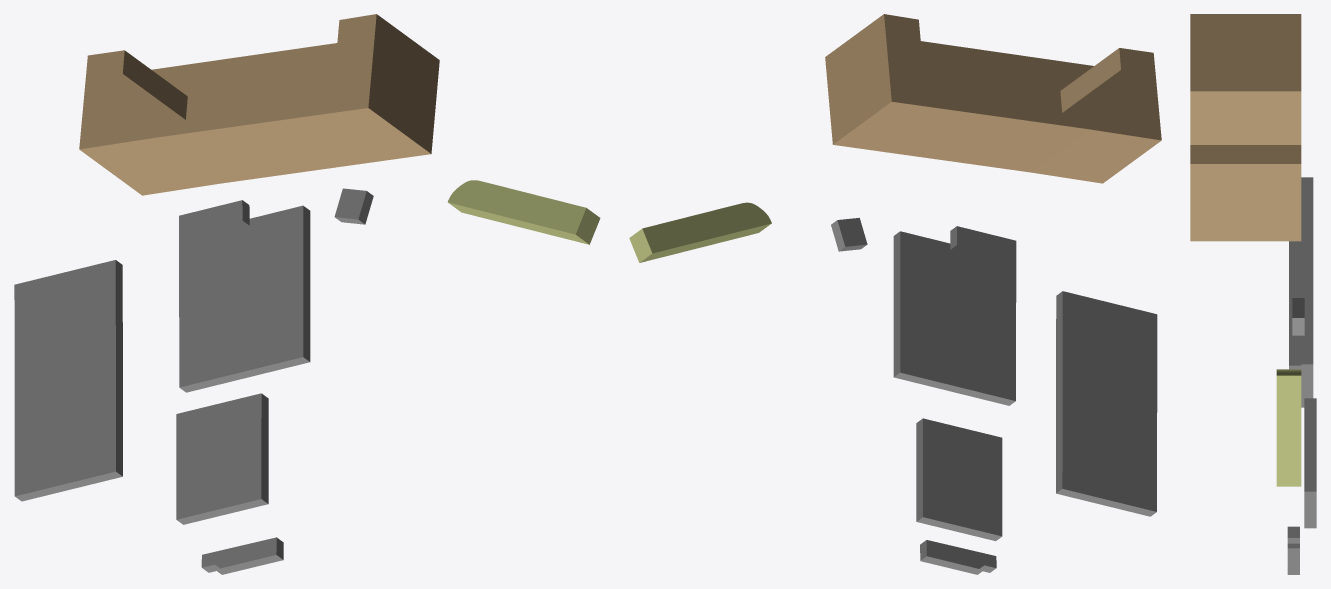
3 renders of one model, left to right at view 1: azimuth 30°, elevation 25°; view 2: azimuth 150°, elevation 25°; view 3: azimuth 270°, elevation 25°, orthographic. The views are drawn at different scales.
Visible parts, largest first — view 1: 0_3_2_0_2_3_3; view 2: 0_3_2_0_2_3_3; view 3: 0_3_2_0_2_3_3.
Part boxes in pixels (x1,y1,x2,y2): 0_3_2_0_2_3_3: (14,14,600,574); 0_3_2_0_2_3_3: (629,14,1161,574); 0_3_2_0_2_3_3: (1190,14,1316,574).
Size of the model in its own units: 140 by 129 by 30.72.
